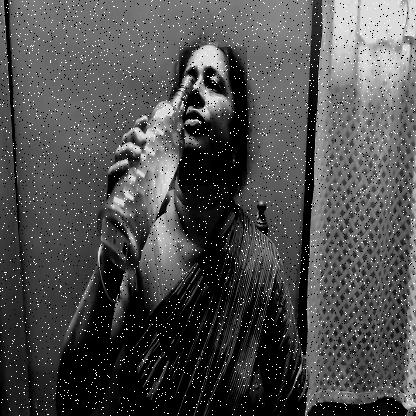Distracted: (179, 47, 247, 186)
